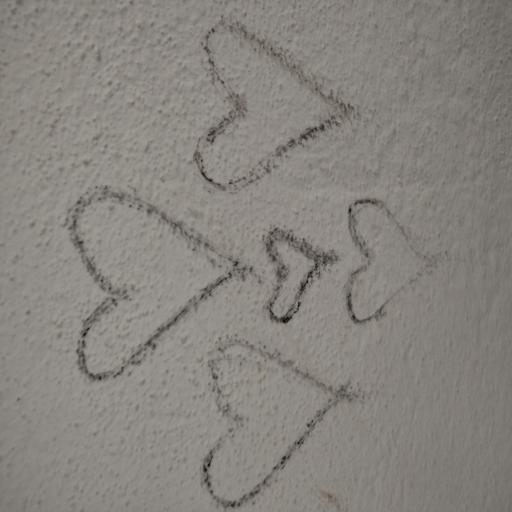stain: (46, 179, 261, 393), (176, 21, 367, 194), (204, 332, 375, 510), (341, 183, 459, 346), (262, 218, 342, 334)
